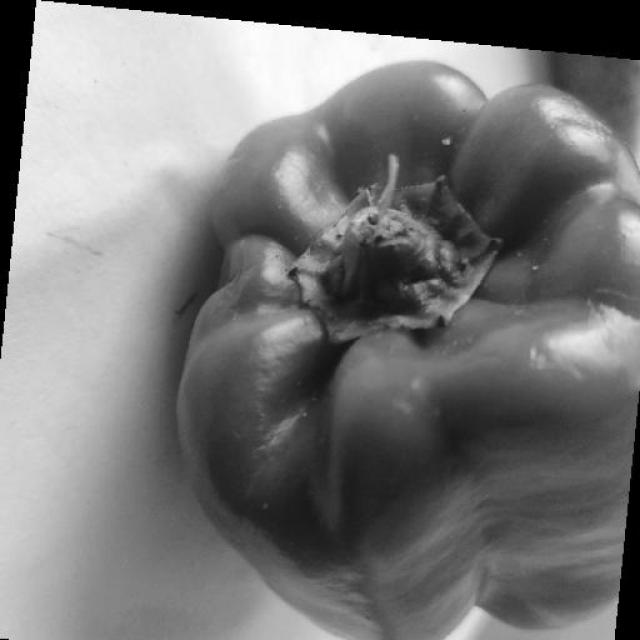Fresh_Capsicum: (213, 54, 640, 640)
